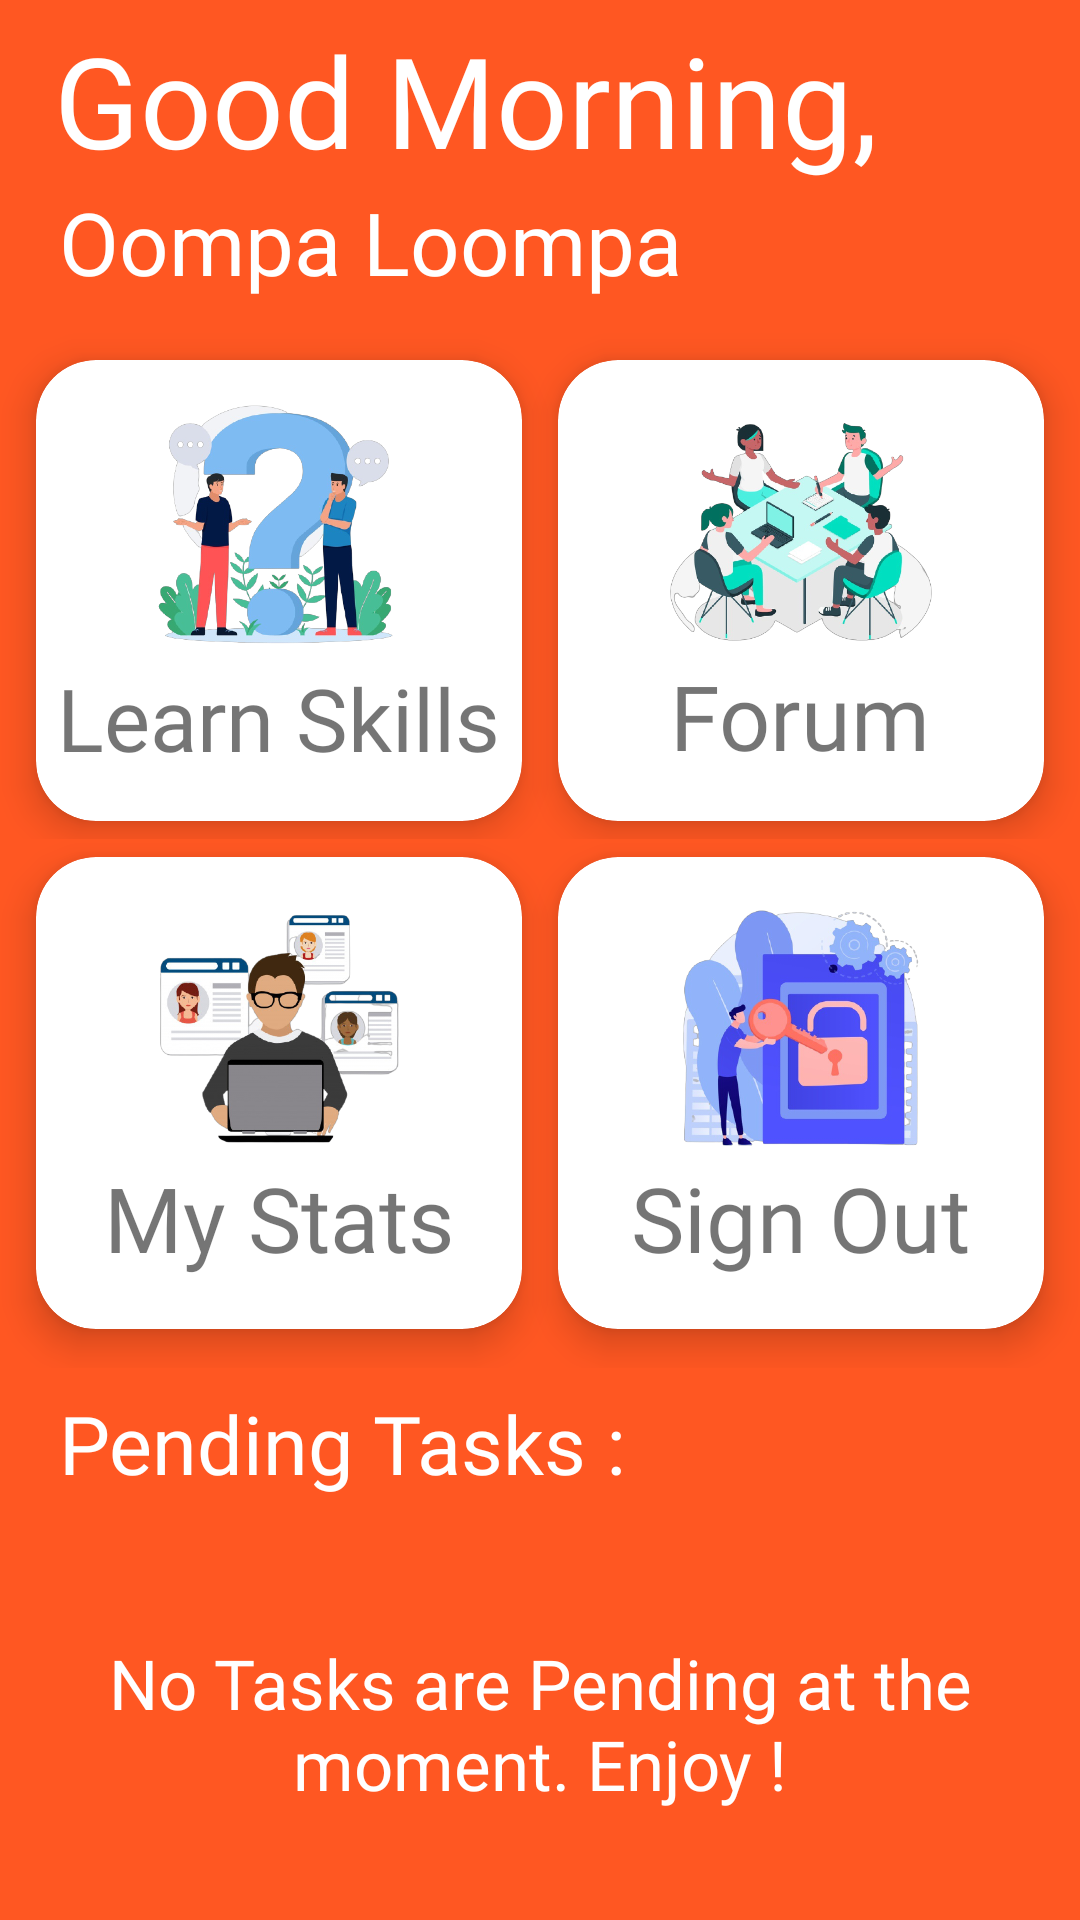

Icons on this 1080 x 1920 Android screen, each with the point to tap as (x=x, y=y):
doubts: (x=275, y=524)
